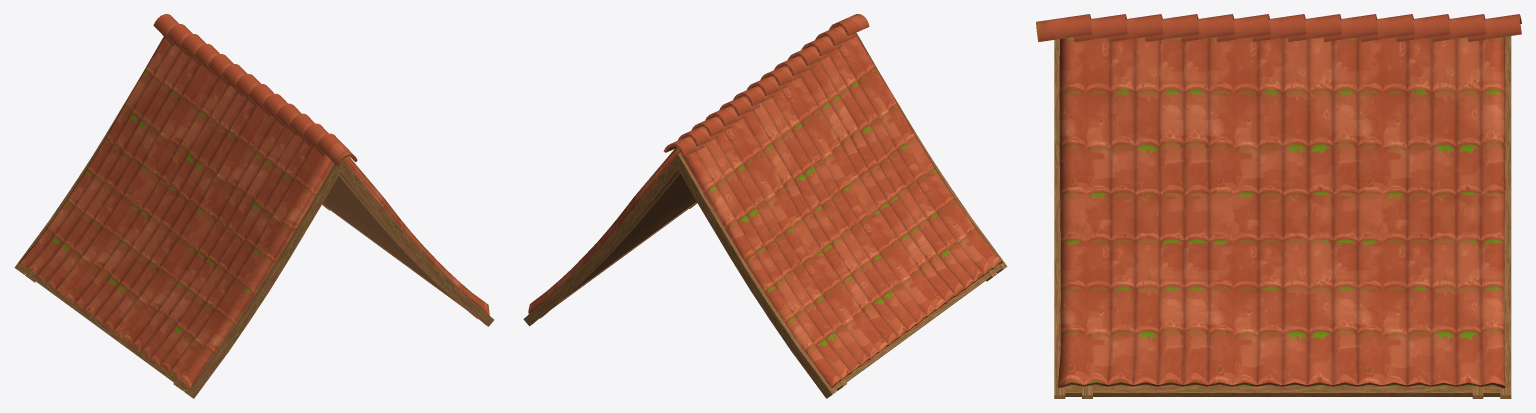
Rendered from Roof_RoundTiles_8x8.glb.
The picture shows the model from 3 angles, left to right: view 1: azimuth 30°, elevation 25°; view 2: azimuth 150°, elevation 25°; view 3: azimuth 270°, elevation 25°; orthographic projection. The views are drawn at different scales.
Parts seen in each view (by area): view 1: Roof_RoundTiles_8x8; view 2: Roof_RoundTiles_8x8; view 3: Roof_RoundTiles_8x8.
Boxes of the visible parts, x1,y1,x2,y2 form: Roof_RoundTiles_8x8: [14, 14, 494, 398]; Roof_RoundTiles_8x8: [523, 14, 1007, 398]; Roof_RoundTiles_8x8: [1036, 14, 1521, 398].
Bounding box in the file's own units: 9.95 × 6.78 × 10.33.
Materials: 2 (2 with a texture image).
